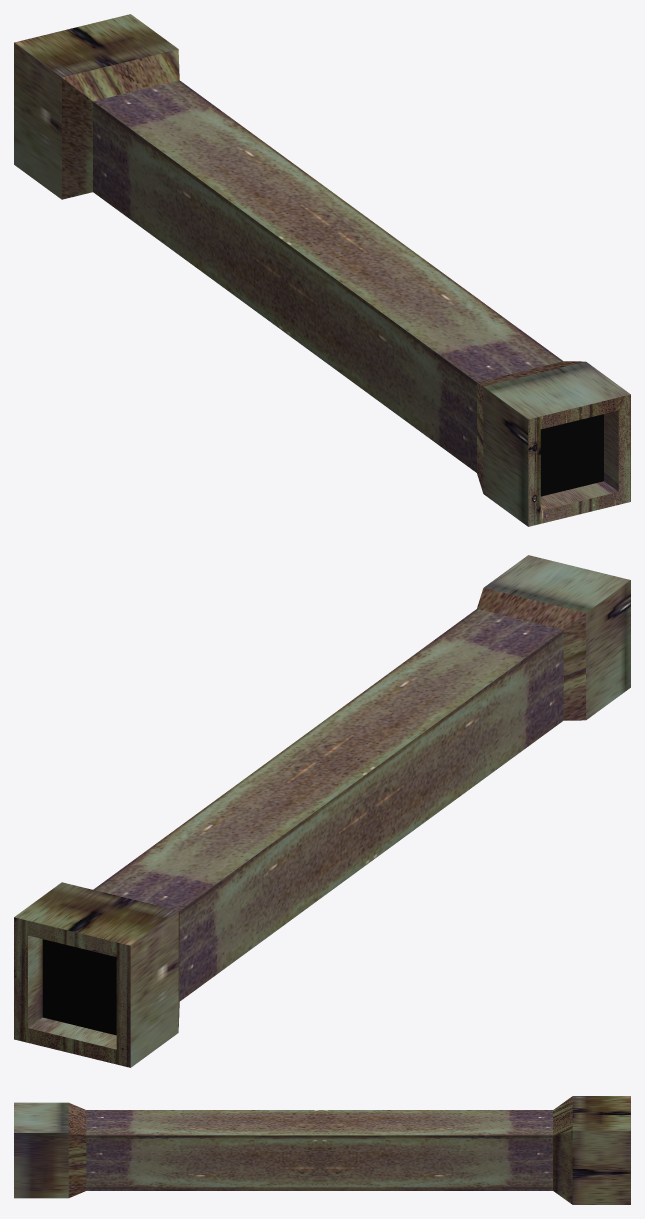
Rendered from Pipe_big.fbx.
3 views of the same model, one above another, from view 1: azimuth 30°, elevation 25°; view 2: azimuth 150°, elevation 25°; view 3: azimuth 270°, elevation 25° (orthographic). The views are drawn at different scales.
Visible parts, largest first — view 1: Pipe_Big; view 2: Pipe_Big; view 3: Pipe_Big.
Boxes of the visible parts, x1=… form: Pipe_Big: x1=14, y1=14, x2=630, y2=526; Pipe_Big: x1=14, y1=555, x2=630, y2=1067; Pipe_Big: x1=14, y1=1096, x2=630, y2=1204.
Bounding box in the file's own units: 269 × 269 × 2027.
